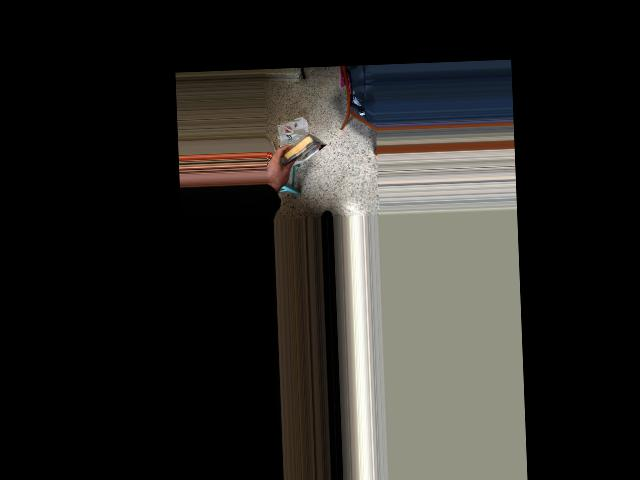cheese: (268, 132, 327, 170)
